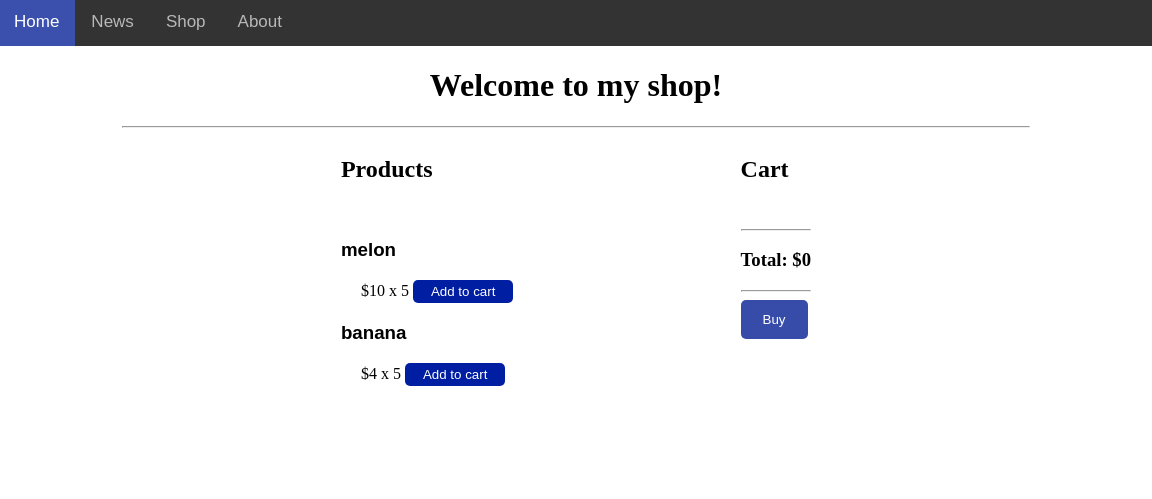
Test: Shop › Can add products to cart
Click the button with class "addToCartBtn" in the row of "10": coordinates (464, 292) [413,280,514,303]
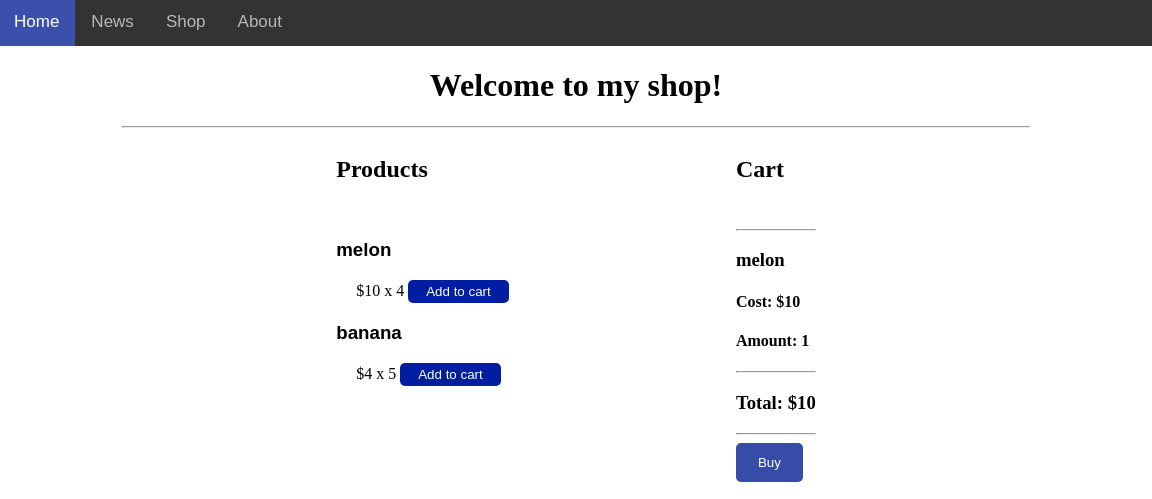
Expected: the heading "Cost: $10" is shown, [736,293,800,310]
Expected: the heading "Amount: 1" is shown, [736,332,816,350]
Click the 1st button with class "addToCartBtn": coordinates (459, 292) [408,280,509,303]
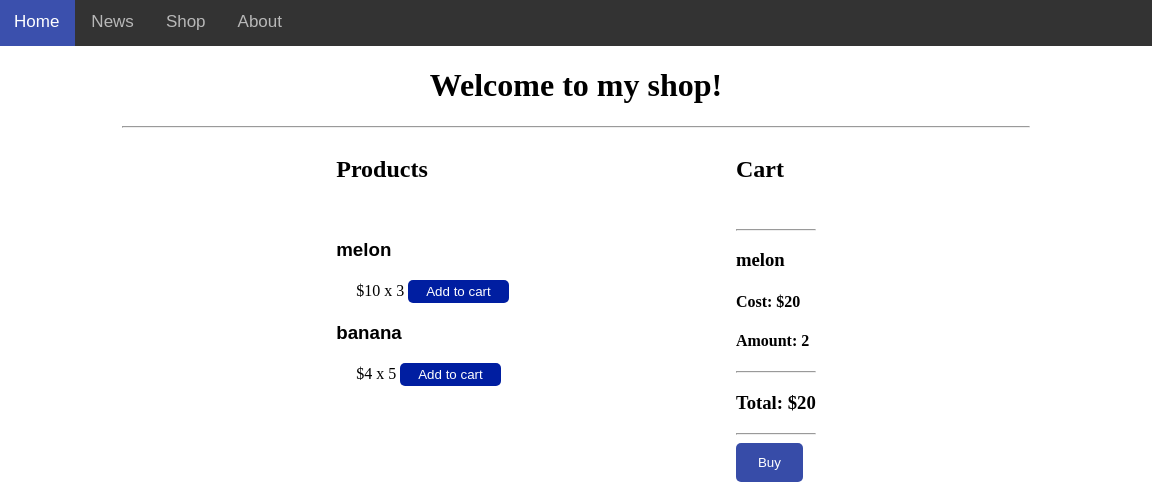
Expected: the heading "Amount: 2" is shown, [736,332,816,350]
